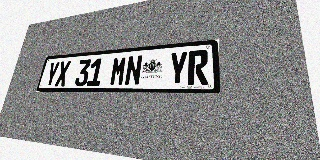1: (86, 58, 104, 86)
3: (74, 59, 91, 86)
M: (109, 56, 128, 86)
N: (124, 55, 143, 86)
R: (188, 50, 208, 85)
X: (54, 61, 71, 86)
Y: (168, 51, 188, 85), (44, 62, 60, 87)
